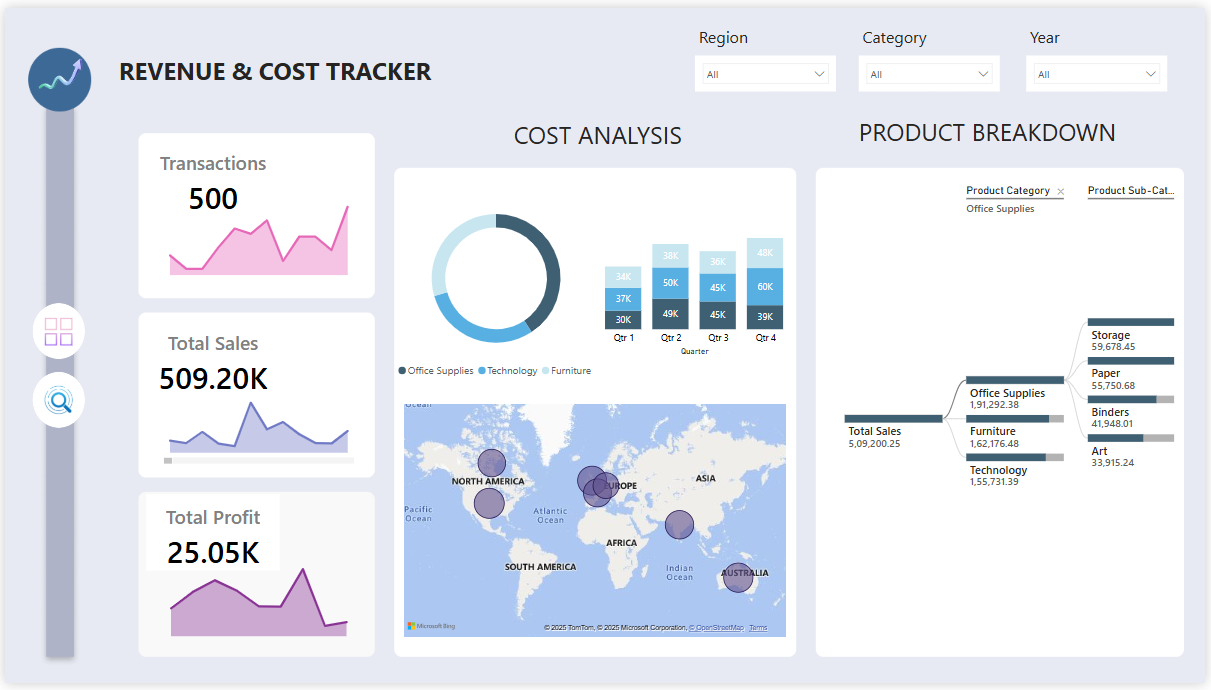

This screenshot's page, from the dashboard's own definition file:
{"tool":"powerbi","page":{"name":"Overview ","canvas":[1600,900],"ordinal":1},"visuals":[{"type":"cardVisual","fields":{"Data":["large_sample_sales_data.Total Transactions"]},"box":[184,172,188,122],"z":0},{"type":"areaChart","fields":{"Category":["large_sample_sales_data.Order Date.Variation.Date Hierarchy.Month","large_sample_sales_data.Order Date.Variation.Date Hierarchy.Day"],"Y":["large_sample_sales_data.Total Transactions"]},"box":[206,234,264,128],"z":1000},{"type":"cardVisual","fields":{"Data":["large_sample_sales_data.Total Sales"]},"box":[184,412,188,112],"z":2000},{"type":"cardVisual","fields":{"Data":["large_sample_sales_data.Total Profit"]},"box":[184,644,188,112],"z":3000},{"type":"areaChart","fields":{"Category":["large_sample_sales_data.Order Date.Variation.Date Hierarchy.Quarter","large_sample_sales_data.Order Date.Variation.Date Hierarchy.Month","large_sample_sales_data.Order Date.Variation.Date Hierarchy.Day"],"Y":["large_sample_sales_data.Total Sales"]},"box":[206,468,264,144],"z":4000},{"type":"areaChart","fields":{"Category":["large_sample_sales_data.Order Date.Variation.Date Hierarchy.Year","large_sample_sales_data.Order Date.Variation.Date Hierarchy.Quarter"],"Y":["large_sample_sales_data.Total Profit"]},"box":[206,720,264,124],"z":5000},{"type":"donutChart","fields":{"Y":["large_sample_sales_data.Total Profit"],"Category":["large_sample_sales_data.Product Category"]},"box":[510,248,290,254],"z":6000},{"type":"columnChart","fields":{"Category":["large_sample_sales_data.Order Date.Variation.Date Hierarchy.Quarter"],"Y":["Sum(large_sample_sales_data.Sales Amount)"],"Series":["large_sample_sales_data.Product Category"]},"box":[770,248,300,220],"z":7000},{"type":"map","fields":{"Category":["large_sample_sales_data.Country"],"Size":["Sum(large_sample_sales_data.Sales Amount)"]},"box":[526,524,520,320],"z":8000},{"type":"decompositionTreeVisual","fields":{"Analyze":["large_sample_sales_data.Total Sales"],"ExplainBy":["large_sample_sales_data.Product Category","large_sample_sales_data.Product Sub-Category"]},"box":[1090,218,474,640],"z":9000},{"type":"textbox","box":[1134,138,416,66],"z":10000},{"type":"textbox","box":[674,142,416,66],"z":11000},{"type":"textbox","box":[146,56,470,66],"z":12000},{"type":"slicer","fields":{"Values":["large_sample_sales_data.Order Date.Variation.Date Hierarchy.Year"]},"box":[1361.7,63.3,188.3,48.3],"z":13000},{"type":"textbox","box":[1361.7,18.3,95,45],"z":14000},{"type":"slicer","fields":{"Values":["large_sample_sales_data.Product Category"]},"box":[1138.3,63.3,188.3,48.3],"z":15000},{"type":"textbox","box":[1138.3,18.3,140,45],"z":16000},{"type":"slicer","fields":{"Values":["large_sample_sales_data.Region"]},"box":[920,63.3,188.3,48.3],"z":17000},{"type":"textbox","box":[920,18.3,140,45],"z":18000},{"type":"shape","box":[36.7,393.3,70,75],"z":18001,"group":"g1"},{"type":"shape","box":[36.7,485,70,75],"z":18002},{"type":"image","box":[18.3,473.3,106.7,98.3],"z":18003},{"type":"image","box":[46.7,408.3,50,46.7],"z":18004,"group":"g1"},{"type":"group","id":"g1","title":"Group 1","box":[36.7,393.3,70,75],"z":18005},{"type":"actionButton","box":[36.7,388.3,70,85],"z":18006},{"type":"actionButton","box":[36.7,480,70,86.7],"z":18007}]}

Visuals, with their boxes in screenshot pixels (x1, y1, x2, y2), scaled from the page's 1600x900 canvas onto the 1211x690 screenshot:
cardVisual - large_sample_sales_data.Total Transactions: (139, 132, 282, 225)
areaChart - large_sample_sales_data.Order Date.Variation.Date Hierarchy.Month x large_sample_sales_data.Order Date.Variation.Date Hierarchy.Day: (156, 179, 356, 278)
cardVisual - large_sample_sales_data.Total Sales: (139, 316, 282, 402)
cardVisual - large_sample_sales_data.Total Profit: (139, 494, 282, 580)
areaChart - large_sample_sales_data.Order Date.Variation.Date Hierarchy.Quarter x large_sample_sales_data.Order Date.Variation.Date Hierarchy.Month: (156, 359, 356, 469)
areaChart - large_sample_sales_data.Order Date.Variation.Date Hierarchy.Year x large_sample_sales_data.Order Date.Variation.Date Hierarchy.Quarter: (156, 552, 356, 647)
donutChart - large_sample_sales_data.Total Profit x large_sample_sales_data.Product Category: (386, 190, 606, 385)
columnChart - large_sample_sales_data.Order Date.Variation.Date Hierarchy.Quarter x Sum(large_sample_sales_data.Sales Amount): (583, 190, 810, 359)
map - large_sample_sales_data.Country x Sum(large_sample_sales_data.Sales Amount): (398, 402, 792, 647)
decompositionTreeVisual - large_sample_sales_data.Total Sales x large_sample_sales_data.Product Category: (825, 167, 1184, 658)
textbox: (858, 106, 1173, 156)
textbox: (510, 109, 825, 159)
textbox: (111, 43, 466, 94)
slicer - large_sample_sales_data.Order Date.Variation.Date Hierarchy.Year: (1031, 49, 1173, 86)
textbox: (1031, 14, 1103, 49)
slicer - large_sample_sales_data.Product Category: (862, 49, 1004, 86)
textbox: (862, 14, 968, 49)
slicer - large_sample_sales_data.Region: (696, 49, 839, 86)
textbox: (696, 14, 802, 49)
shape: (28, 302, 81, 359)
shape: (28, 372, 81, 429)
image: (14, 363, 95, 438)
image: (35, 313, 73, 349)
"Group 1" group: (28, 302, 81, 359)
actionButton: (28, 298, 81, 363)
actionButton: (28, 368, 81, 434)
